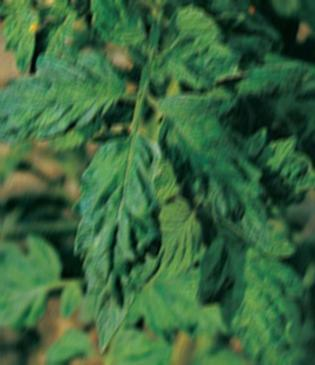Tomato leaf mosaic virus: (72, 139, 171, 345), (151, 90, 271, 246), (199, 228, 312, 365), (0, 53, 123, 149), (146, 45, 249, 88), (91, 0, 153, 54)
